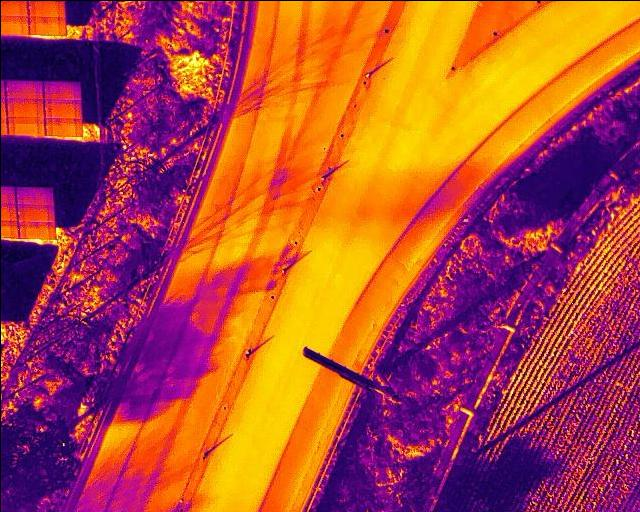No-Anomaly: (5, 115, 46, 135), (43, 98, 82, 118), (3, 97, 42, 116), (28, 15, 64, 35), (45, 118, 82, 137), (18, 220, 55, 238), (4, 80, 42, 97), (42, 80, 80, 97), (14, 186, 51, 203), (17, 203, 54, 220), (27, 1, 64, 16)
